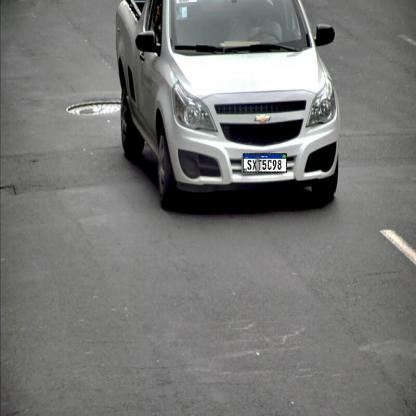PlacaM: (243, 153, 287, 173)
